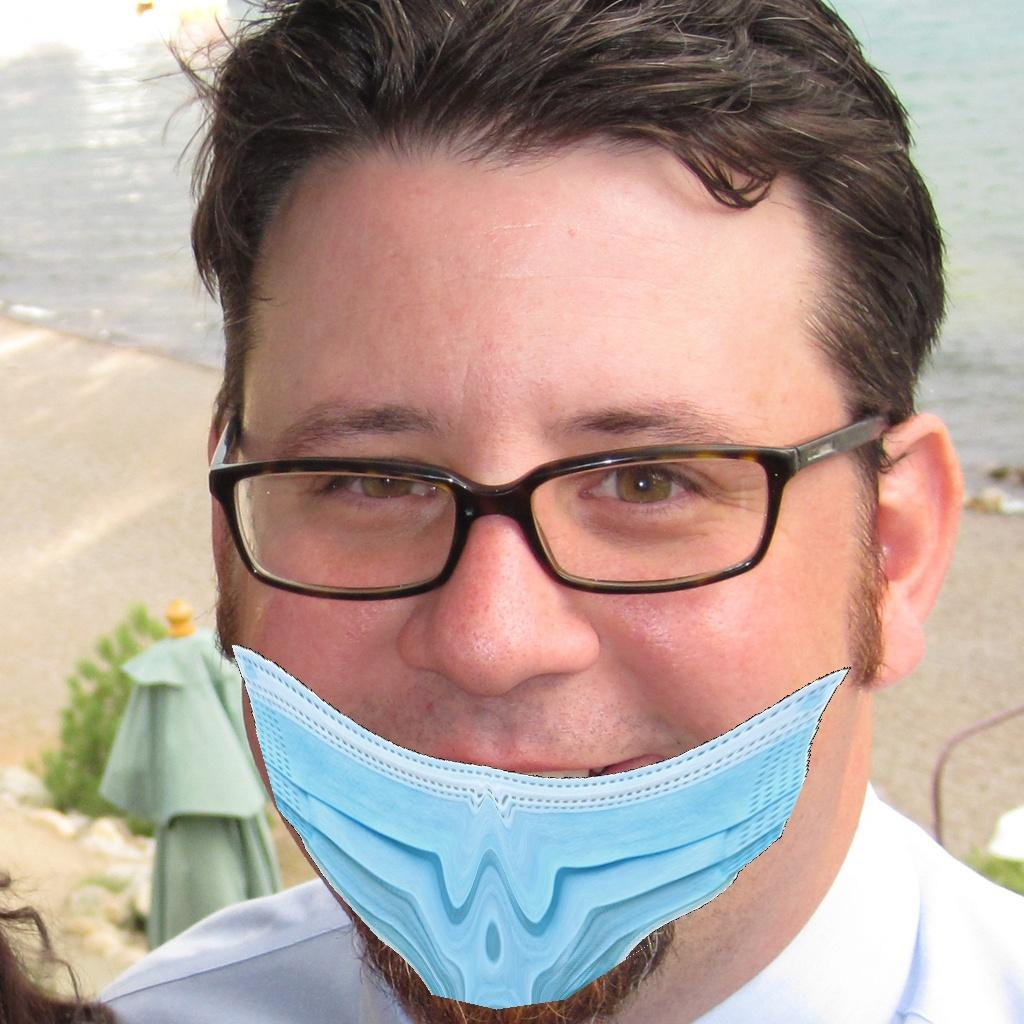Máscara Incorreta: (175, 192, 933, 1003)
